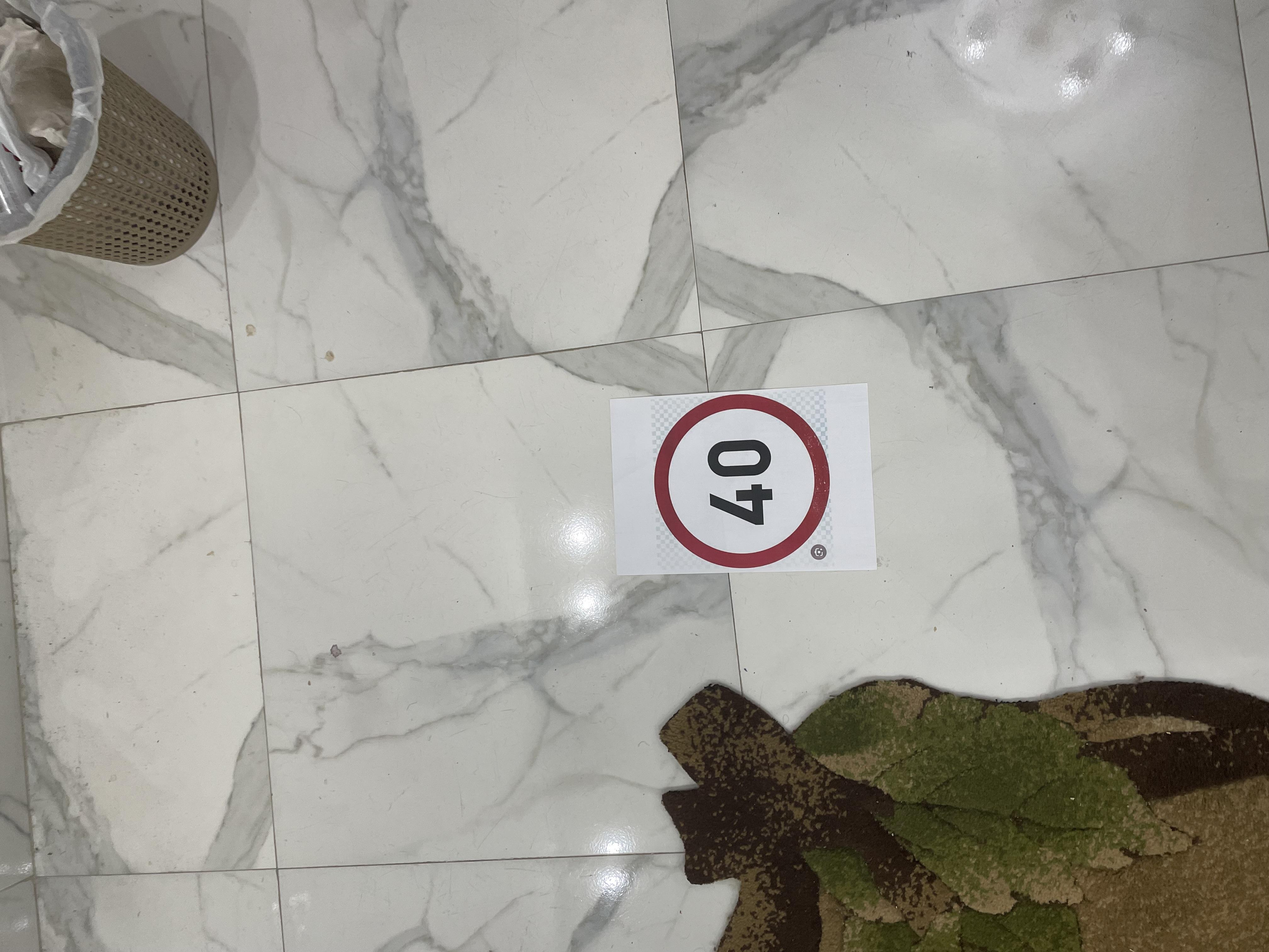40-Speed: (504, 485, 757, 623)
